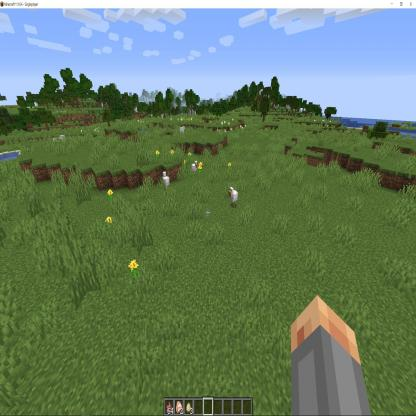minecraft-pigs: (227, 186, 239, 208), (161, 169, 171, 190), (190, 159, 199, 178)
